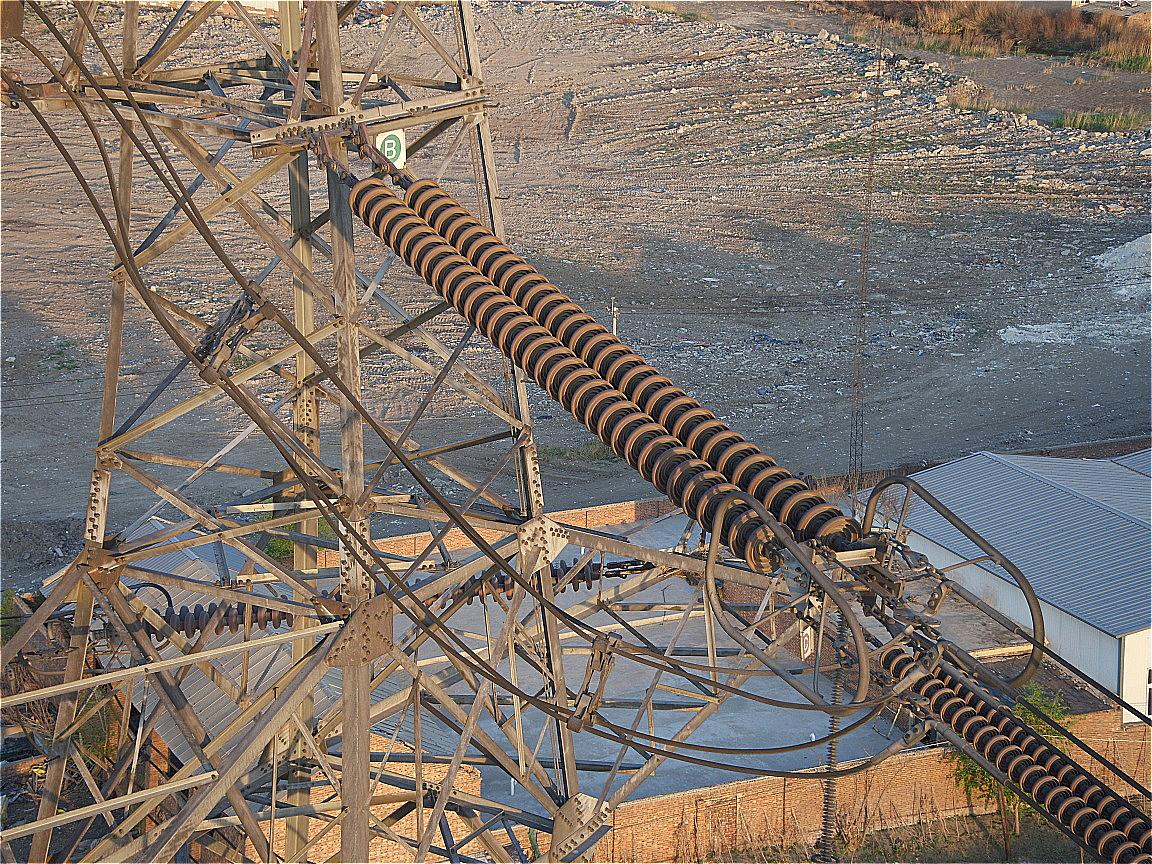insultor1: (341, 157, 843, 592)
